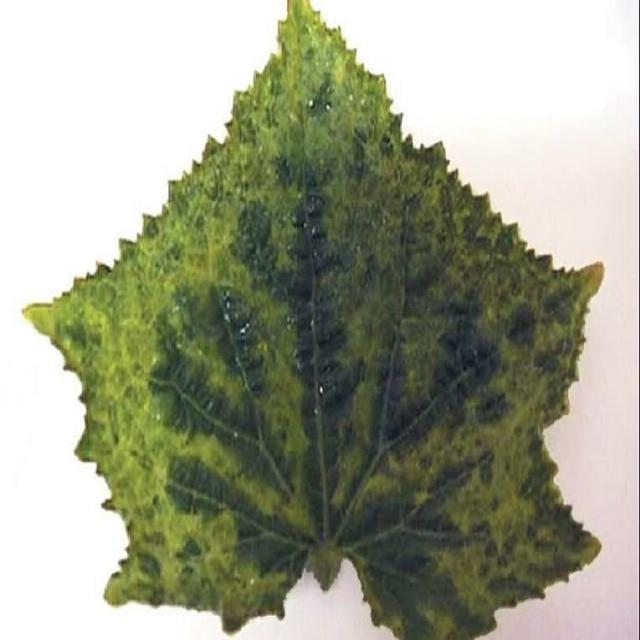Aphids: (17, 0, 607, 640)
